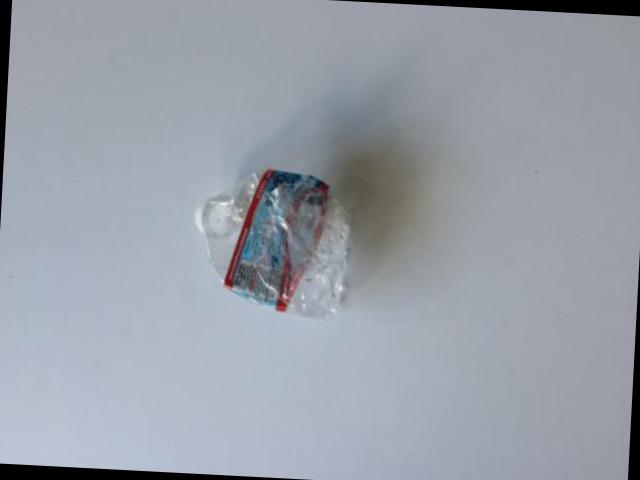plastic: (195, 172, 347, 320)
